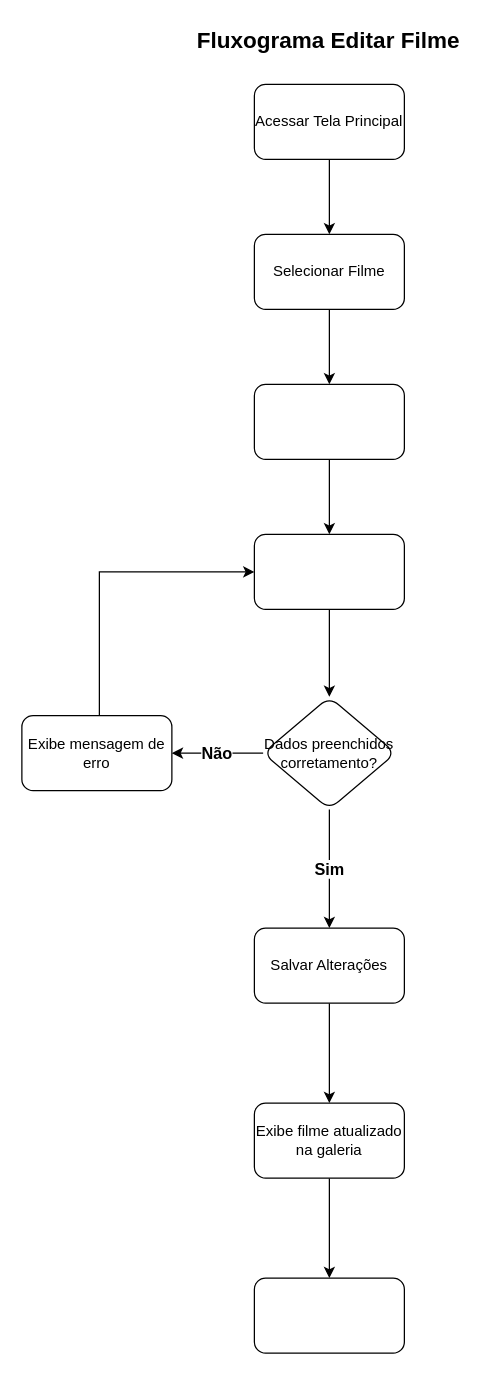
The diagram is 488 pixels wide and 1375 high, and some of its shapes have lost their labels. The centre of each missing label's shape, as x and y in pixels:
"Editar informações" goes at (x=328, y=571).
"Exibe informações do filme" goes at (x=328, y=421).
"Redireciona para tela principal" goes at (x=328, y=1315).
